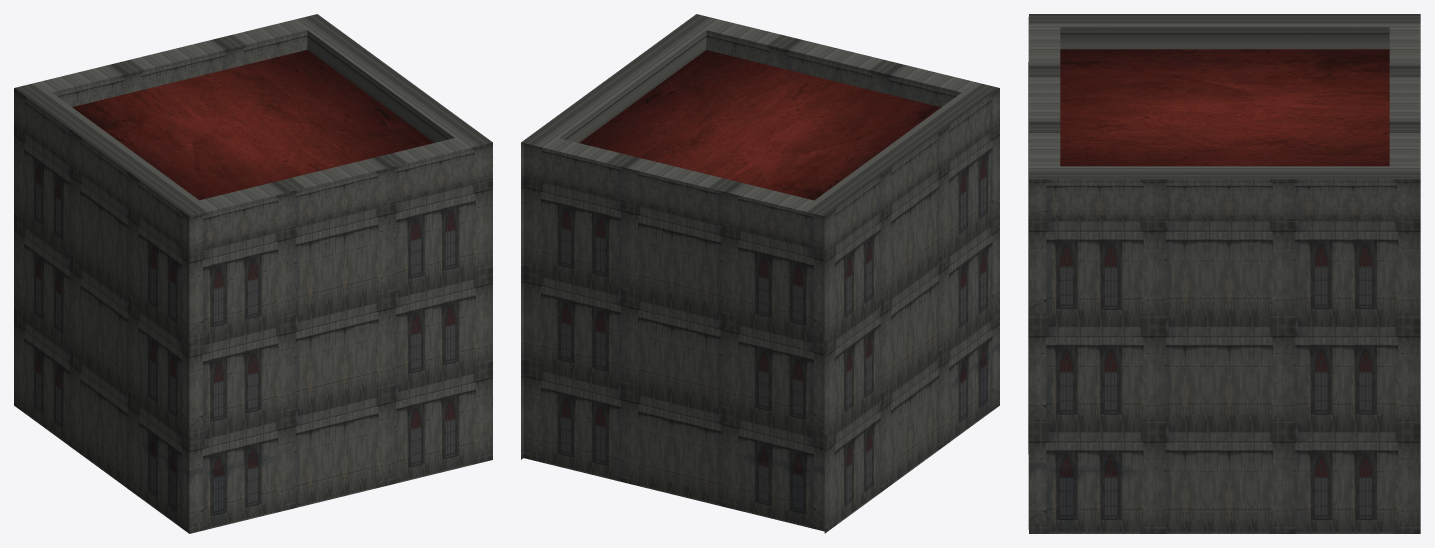
Rendered from Apartment .fbx.
3 renders of one model, left to right at view 1: azimuth 30°, elevation 25°; view 2: azimuth 150°, elevation 25°; view 3: azimuth 270°, elevation 25°, orthographic. The views are drawn at different scales.
Visible parts, largest first — view 1: Apartment; view 2: Apartment; view 3: Apartment.
Boxes of the visible parts, left/top/right/bottom form: Apartment: left=14, top=14, right=492, bottom=533; Apartment: left=521, top=14, right=999, bottom=533; Apartment: left=1028, top=14, right=1420, bottom=533.
Size of the model in its own units: 1080 by 1083 by 1080.
3 materials, 3 textured.
